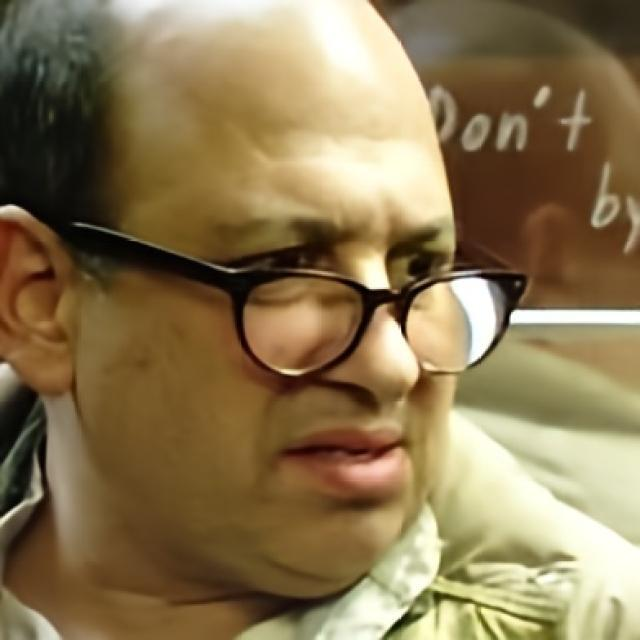disgust: (78, 0, 470, 599)
